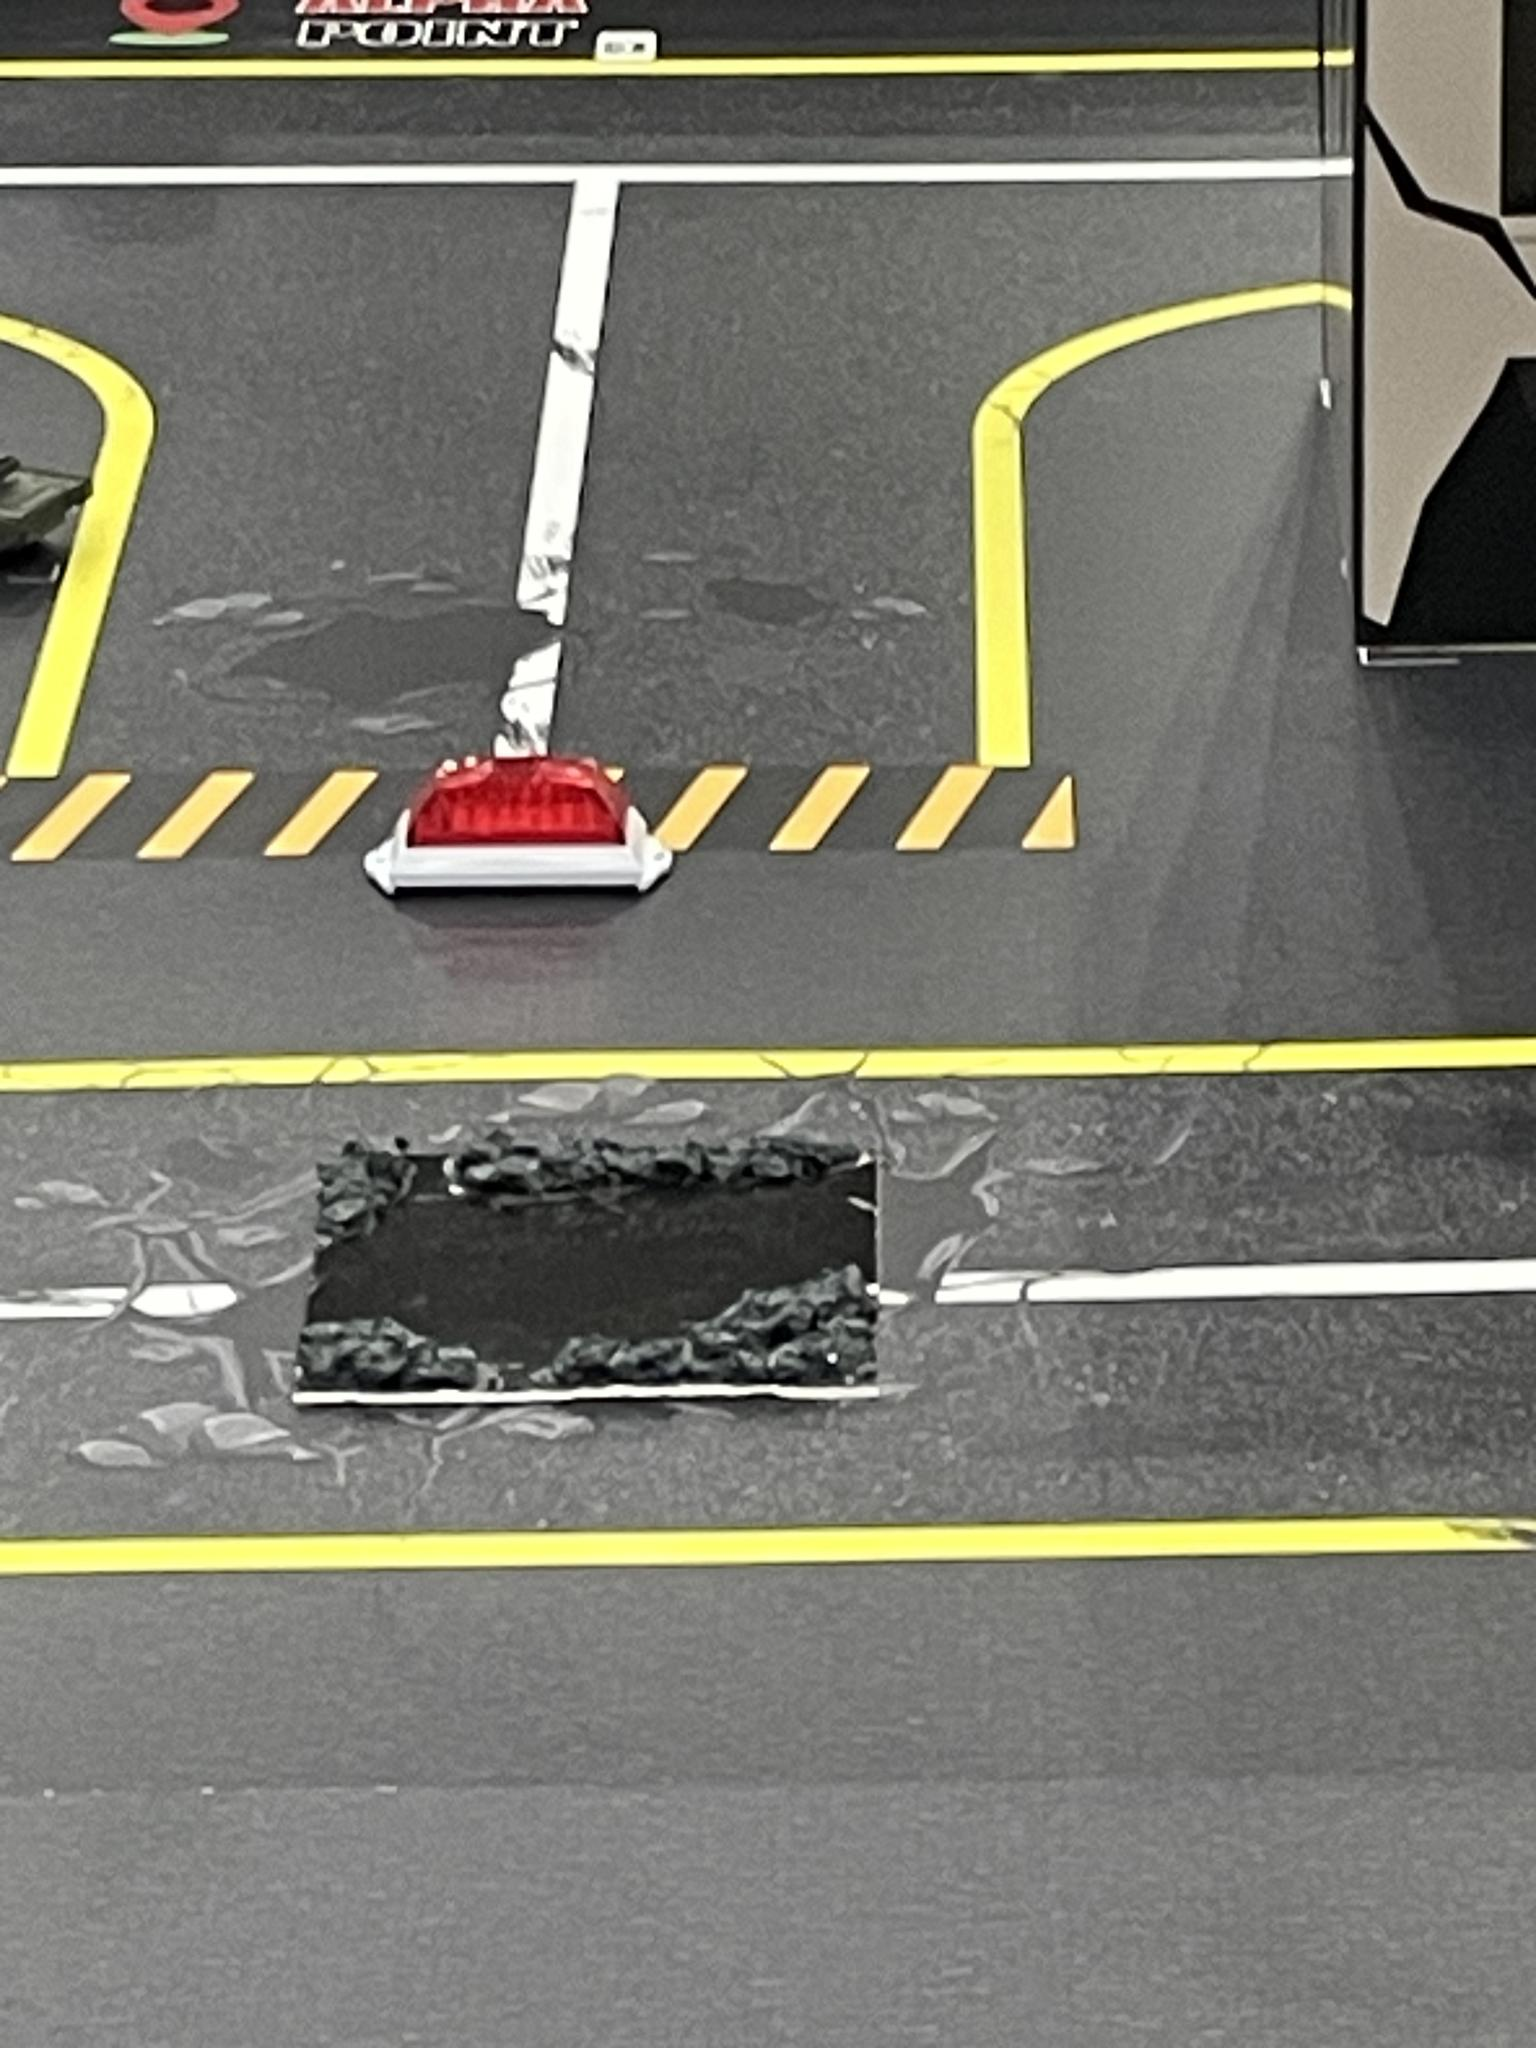Tank: (0, 447, 106, 579)
